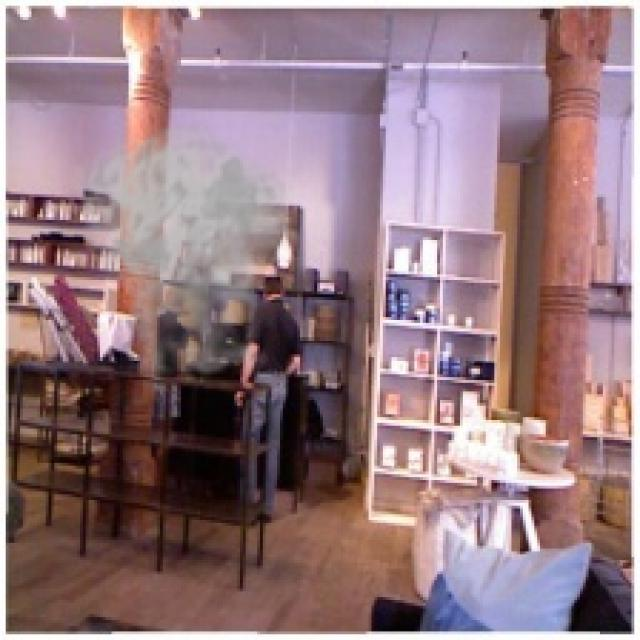smoke: (69, 120, 308, 397)
